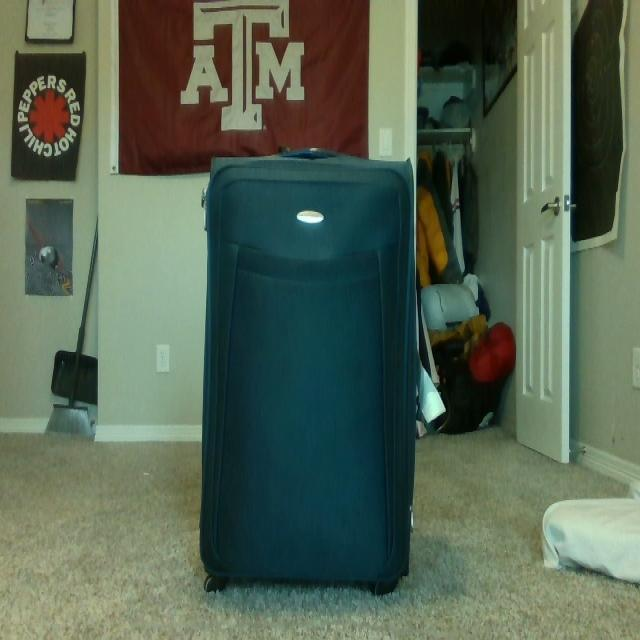suitcase: (198, 145, 420, 597)
